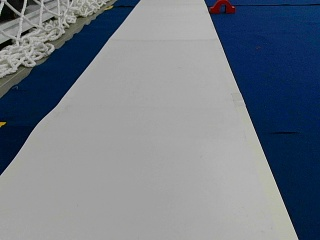bridge: (209, 0, 235, 12)
